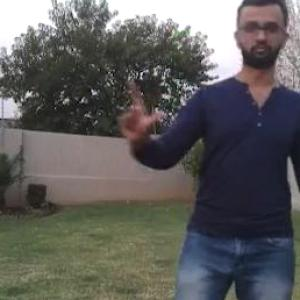land_hand: (108, 72, 166, 148)
